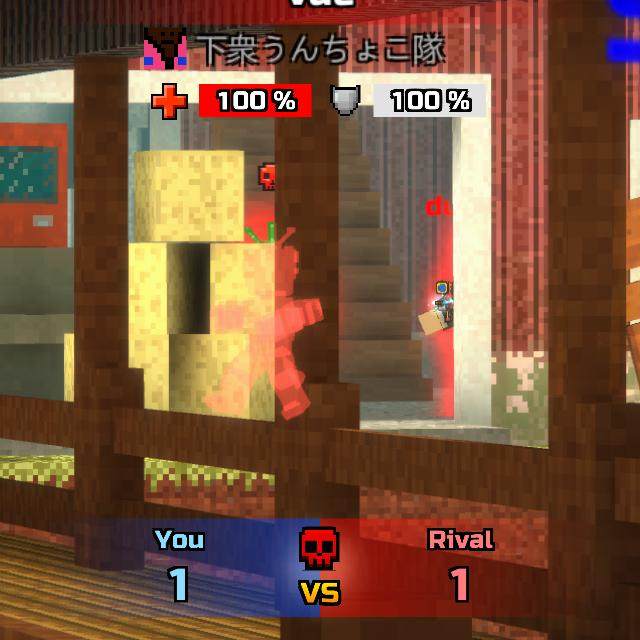Enemy: (418, 243, 454, 419)
